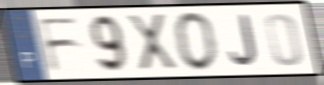0: (264, 11, 304, 68)
9: (86, 13, 130, 75)
F: (35, 15, 82, 75)
J: (227, 13, 260, 69)
O: (172, 10, 220, 73)
X: (124, 12, 180, 74)
